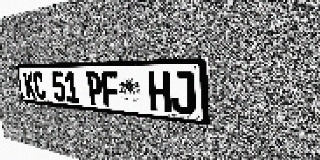1: (63, 72, 79, 103)
5: (51, 72, 67, 102)
C: (32, 72, 47, 100)
F: (101, 72, 120, 107)
H: (148, 71, 171, 113)
J: (170, 71, 196, 115)
K: (23, 72, 36, 99)
P: (85, 72, 104, 106)
